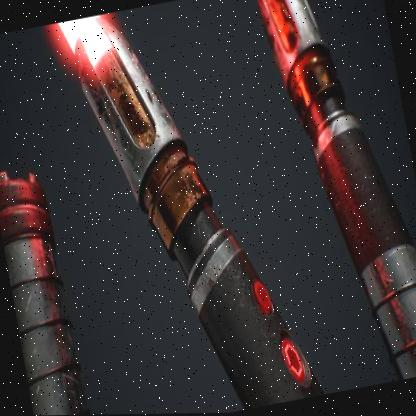sith_lightsaber: (42, 0, 320, 415), (256, 0, 416, 393)
